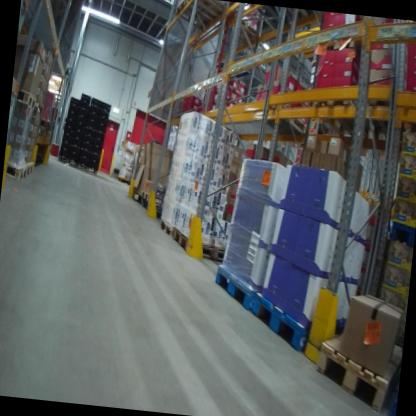pallet: (307, 304, 406, 416), (250, 283, 350, 355), (309, 82, 383, 151), (209, 257, 261, 318), (361, 81, 412, 140), (171, 220, 237, 261), (171, 0, 235, 35), (224, 15, 266, 51), (182, 0, 233, 23), (274, 6, 320, 27), (138, 187, 169, 211), (15, 84, 39, 111), (4, 158, 29, 182), (386, 376, 399, 416), (72, 156, 98, 175), (56, 150, 79, 170), (156, 217, 175, 241), (32, 98, 47, 117), (22, 161, 35, 179), (35, 121, 45, 138), (43, 117, 51, 132), (41, 128, 49, 140)
